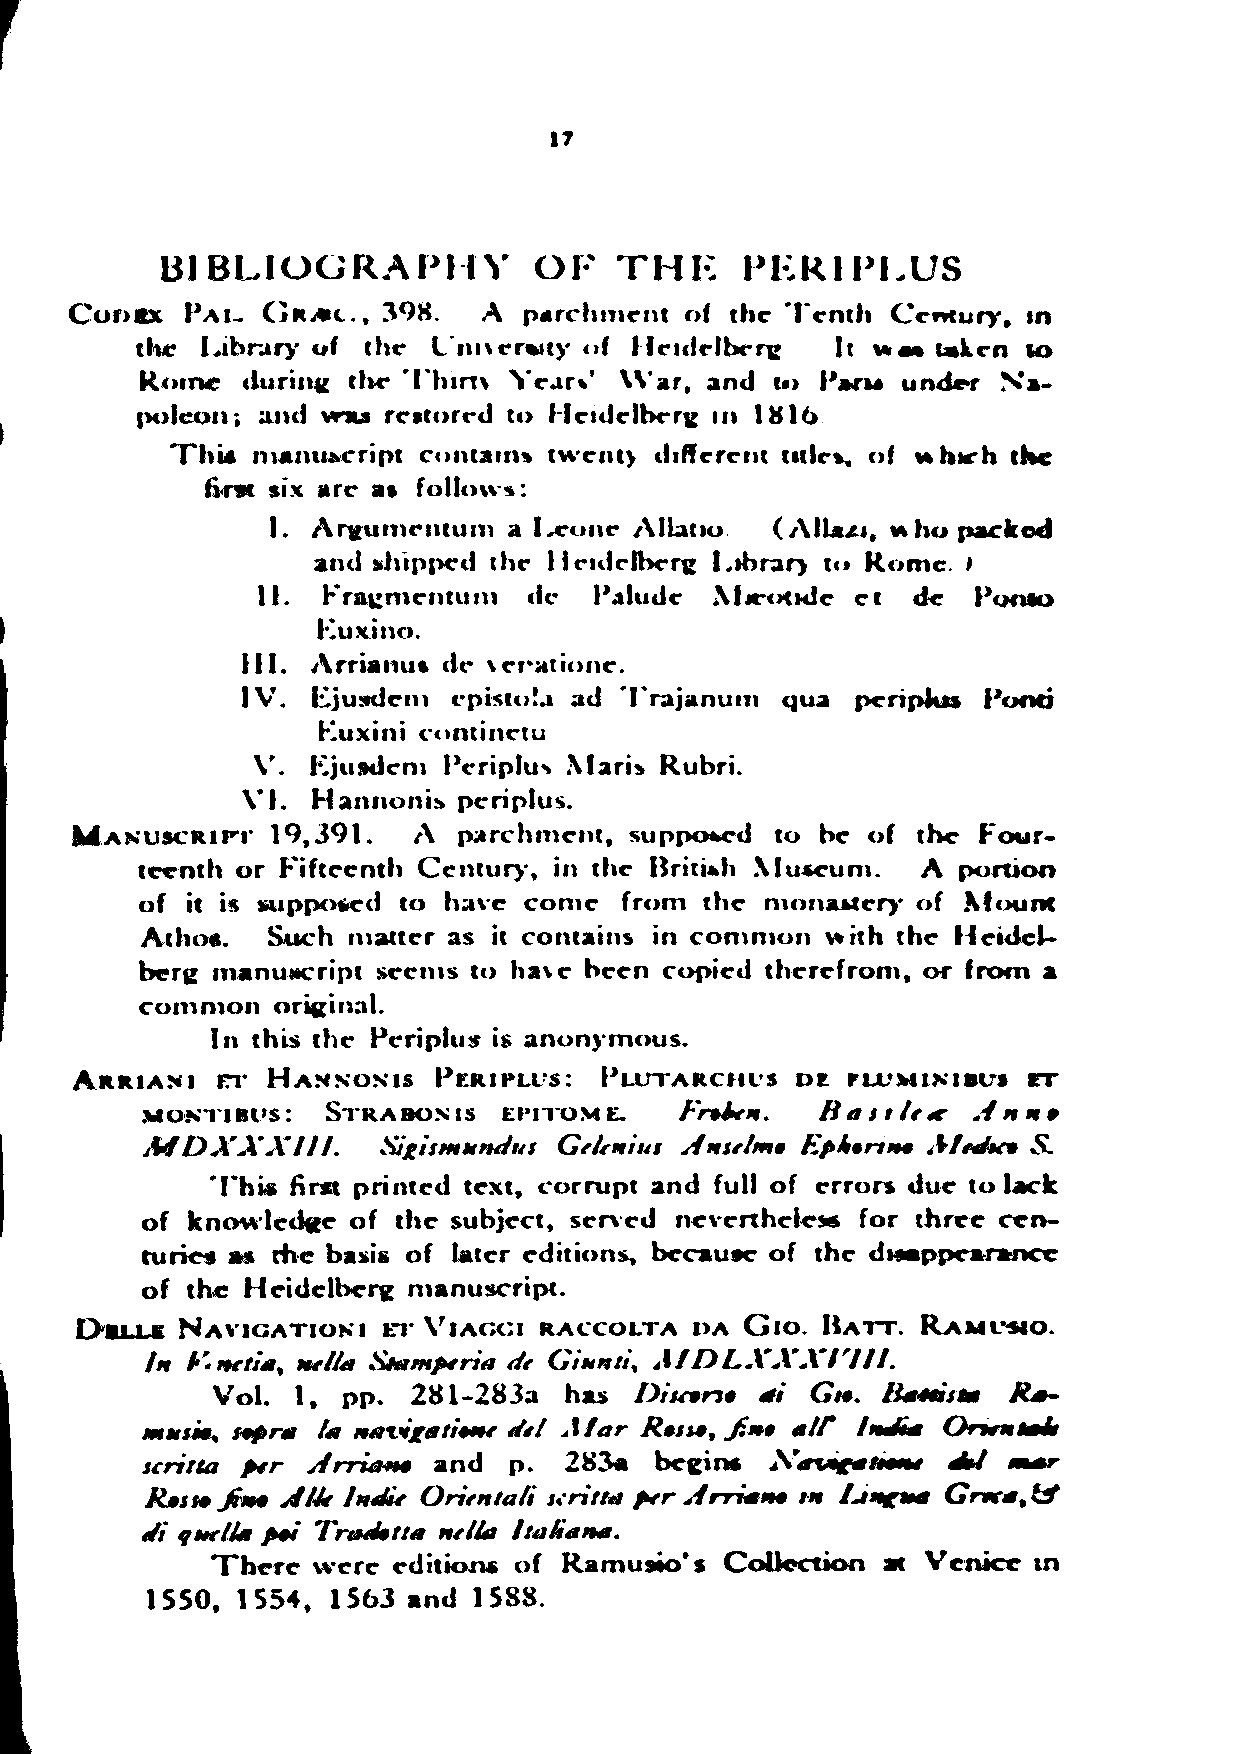chapter: (154, 246, 962, 287)
content: (63, 298, 1060, 1621)
content_pagenumber: (548, 125, 574, 153)
